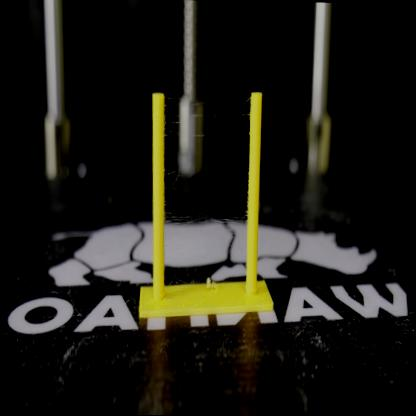fail: (165, 99, 252, 166), (165, 170, 195, 227)
